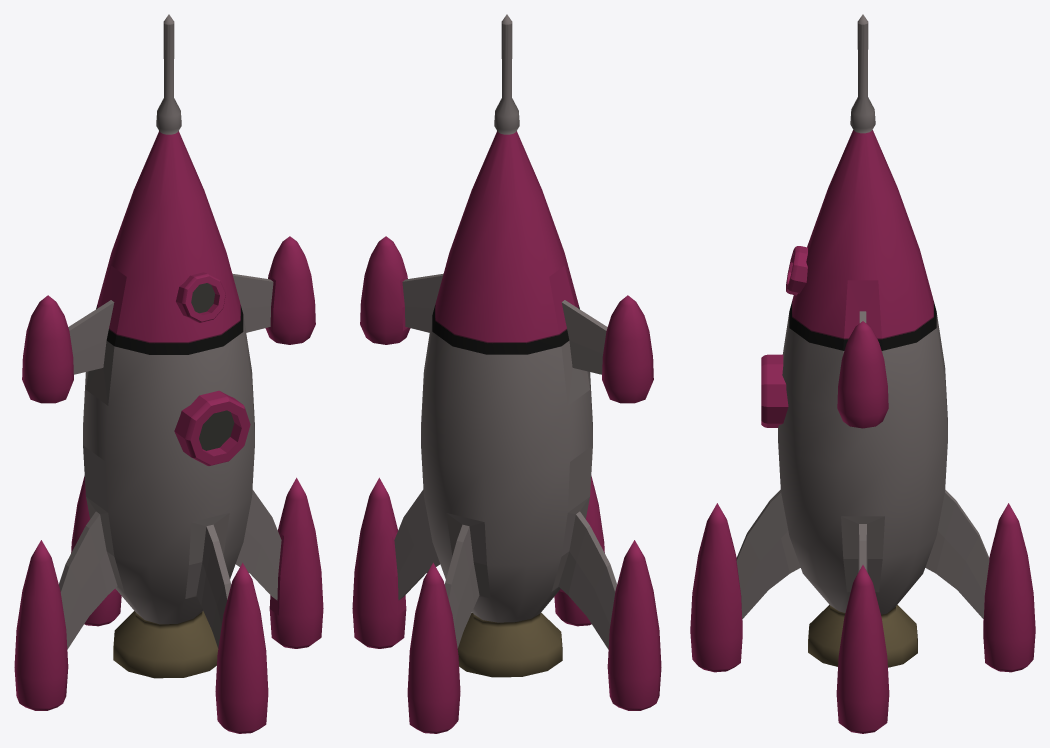
The model's file is RocketModel0.1.fbx.
The picture shows the model from 3 angles, left to right: view 1: azimuth 30°, elevation 25°; view 2: azimuth 150°, elevation 25°; view 3: azimuth 270°, elevation 25°; orthographic projection.
Parts seen in each view (by area): view 1: pCylinder5; view 2: pCylinder5; view 3: pCylinder5.
Part boxes in pixels (x1,y1,x2,y2): pCylinder5: (14, 14, 323, 733); pCylinder5: (352, 14, 661, 733); pCylinder5: (690, 14, 1035, 733).
Bounding box in the file's own units: 6.12 × 12.73 × 6.12.
1 material, 1 textured.
